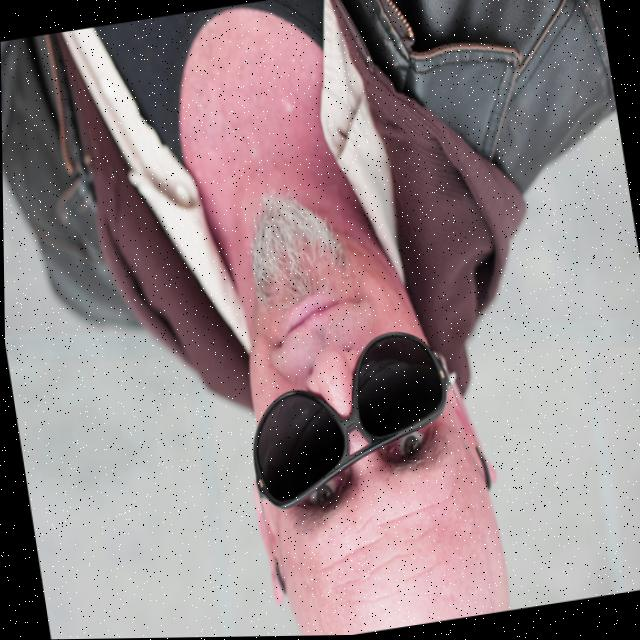beard: (252, 195, 348, 307)
